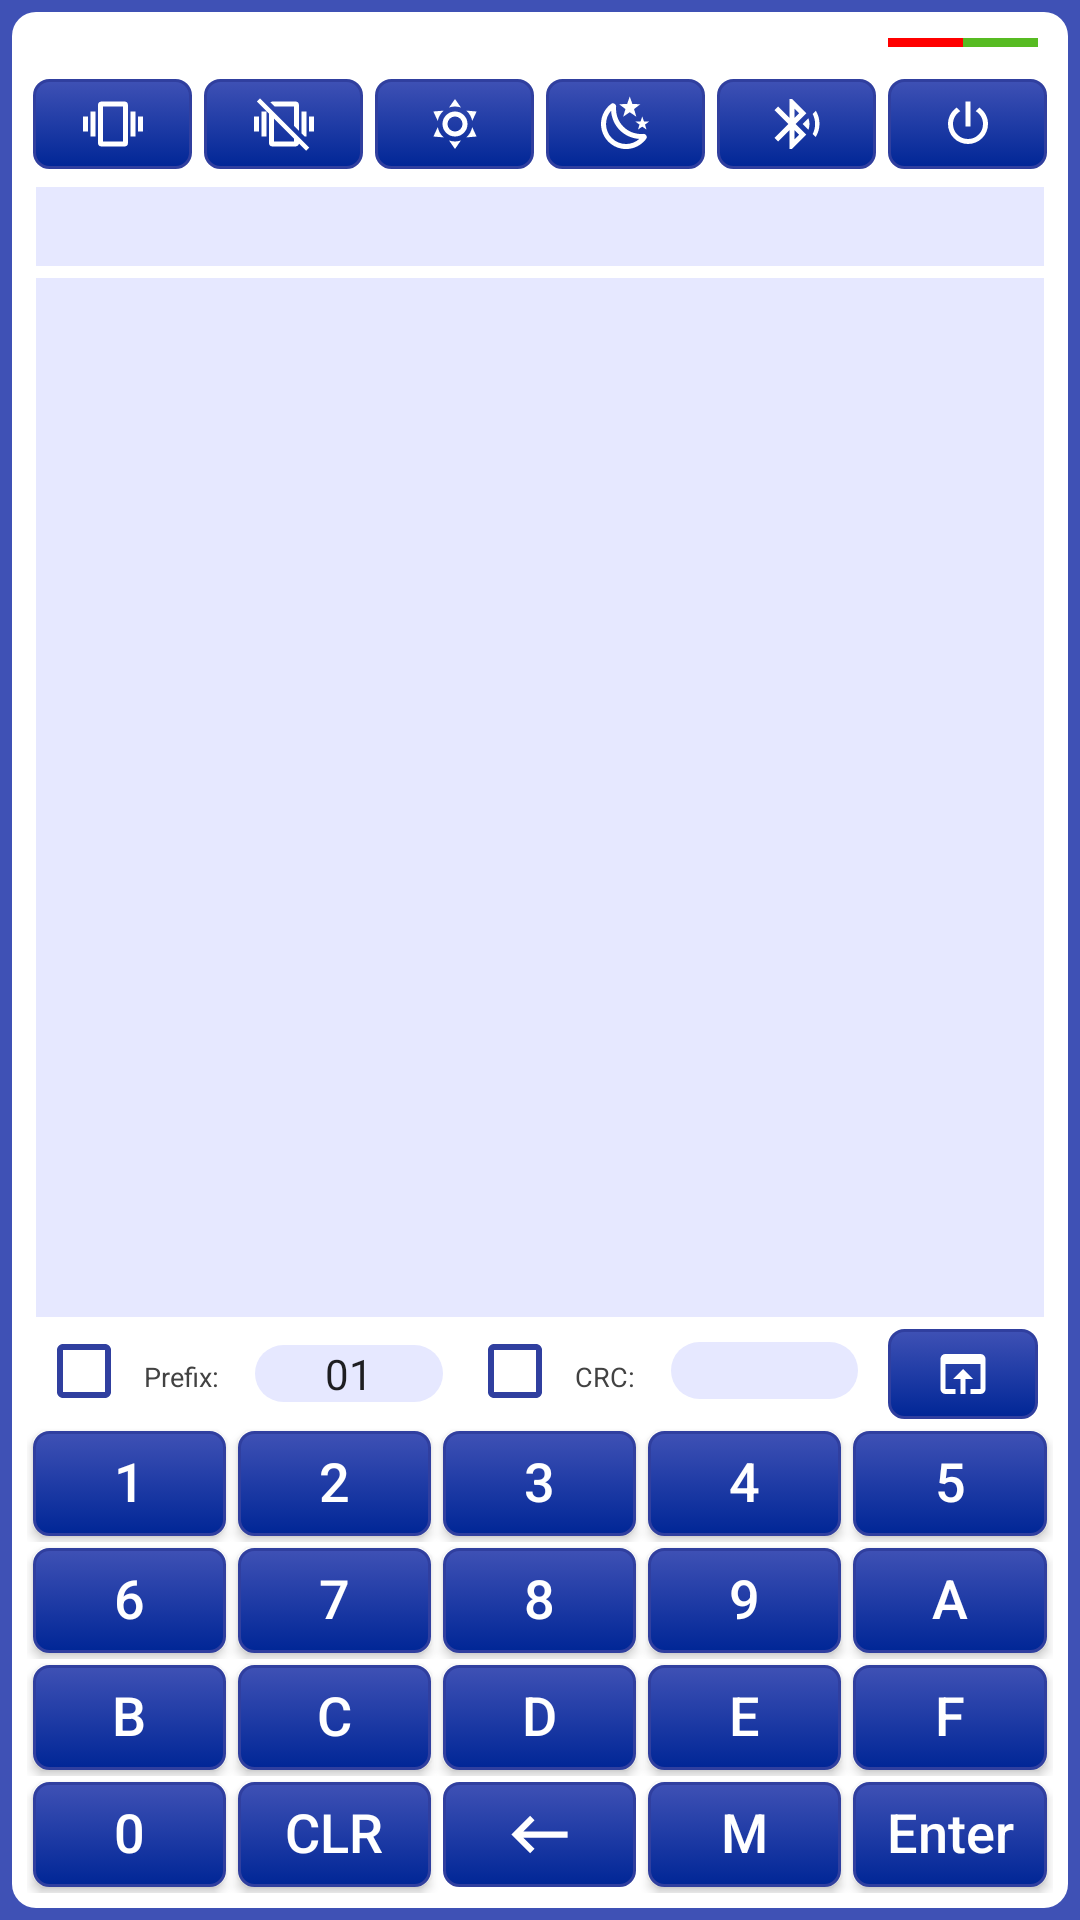

Screen size 1080 x 1920. Icon name, then its box in pixels as (x1, y1, x2, y2):
custom back: (443, 1782, 636, 1887)
custom day: (375, 79, 534, 169)
custom night: (546, 79, 705, 169)
custom open: (888, 1329, 1038, 1419)
custom power: (888, 79, 1047, 169)
custom vibro off: (204, 79, 363, 169)
custom vibro on: (33, 79, 192, 169)
